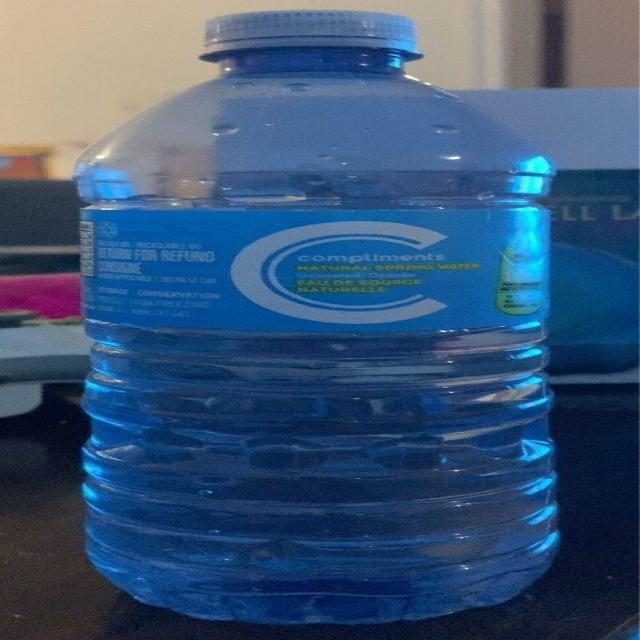bottle: (59, 7, 615, 640)
